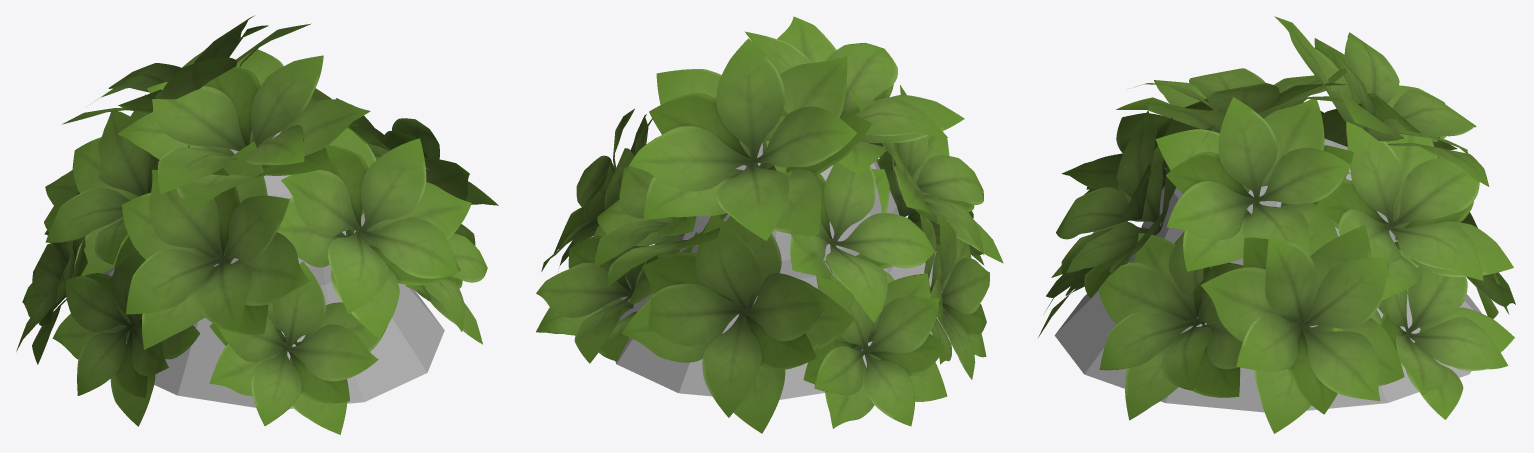
Rendered from bush.fbx.
3 views of the same model, side by side, from view 1: azimuth 30°, elevation 25°; view 2: azimuth 150°, elevation 25°; view 3: azimuth 270°, elevation 25° (orthographic). The views are drawn at different scales.
Visible parts, largest first — view 1: pPlane3 (×12), pPlane2 (×11), base; view 2: pPlane3 (×10), pPlane2 (×11), base; view 3: pPlane3 (×9), pPlane2 (×11), base.
Boxes of the visible parts, x1=… form: pPlane3 (×12): x1=16, y1=15, x2=498, y2=425; pPlane2 (×11): x1=22, y1=23, x2=482, y2=434; base: x1=102, y1=131, x2=444, y2=408; pPlane3 (×10): x1=536, y1=31, x2=989, y2=426; pPlane2 (×11): x1=536, y1=16, x2=1003, y2=433; base: x1=615, y1=142, x2=948, y2=399; pPlane3 (×9): x1=1056, y1=32, x2=1508, y2=414; pPlane2 (×11): x1=1051, y1=16, x2=1515, y2=433; base: x1=1054, y1=138, x2=1481, y2=412.
Bounding box in the file's own units: 1180 × 890 × 1142.
